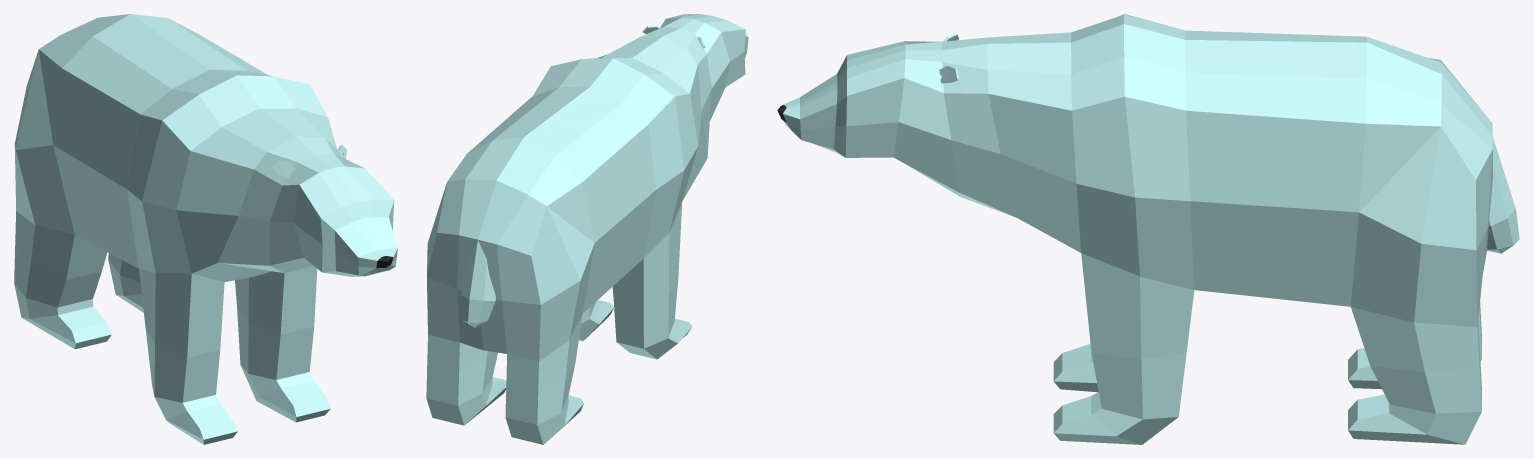
File: bear.fbx
3 renders of one model, left to right at view 1: azimuth 30°, elevation 25°; view 2: azimuth 150°, elevation 25°; view 3: azimuth 270°, elevation 25°, orthographic. The views are drawn at different scales.
Visible parts, largest first — view 1: Polar bear; view 2: Polar bear; view 3: Polar bear.
Part boxes in pixels (<box>): Polar bear: <box>14,14,397,444</box>; Polar bear: <box>426,14,748,444</box>; Polar bear: <box>777,14,1519,444</box>.
Bounding box in the file's own units: 58.86 × 104 × 182.
